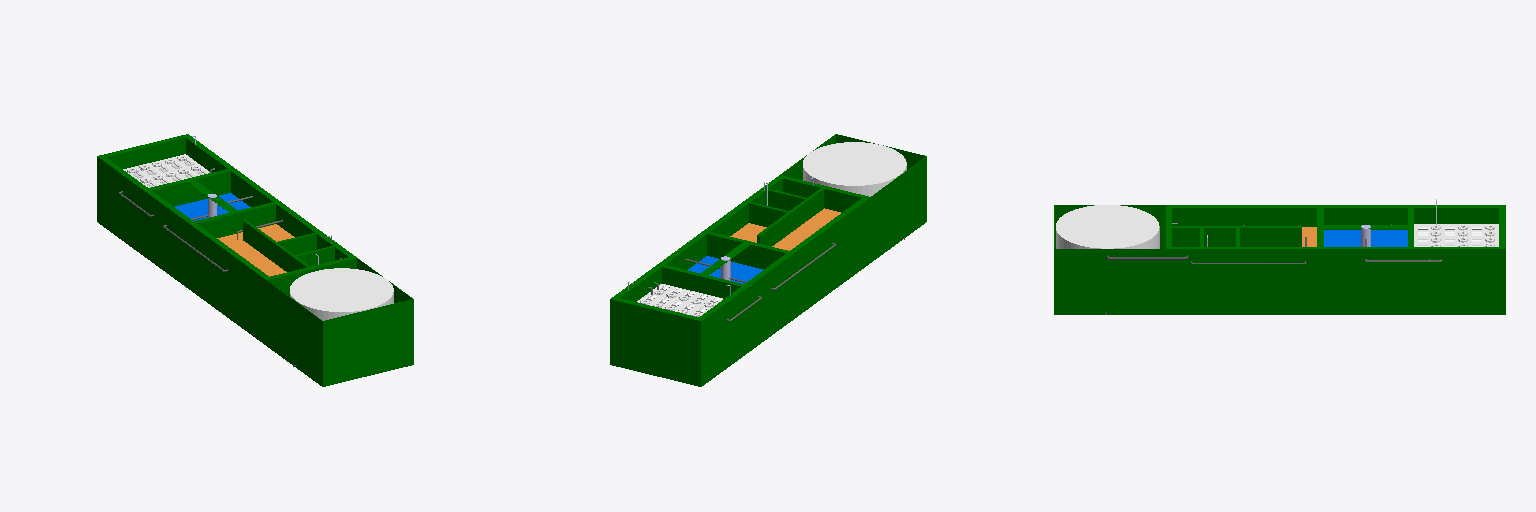
3 views of the same model, side by side, from view 1: azimuth 30°, elevation 25°; view 2: azimuth 150°, elevation 25°; view 3: azimuth 270°, elevation 25° (orthographic).
Visible parts, largest first — view 1: NONE_DC_Brep; view 2: NONE_DC_Brep; view 3: NONE_DC_Brep.
Part boxes in pixels (bbox=[...]): NONE_DC_Brep: bbox=[97, 134, 413, 386]; NONE_DC_Brep: bbox=[610, 134, 926, 386]; NONE_DC_Brep: bbox=[1054, 199, 1505, 314].
Size of the model in its own units: 9619 by 6810 by 37297.